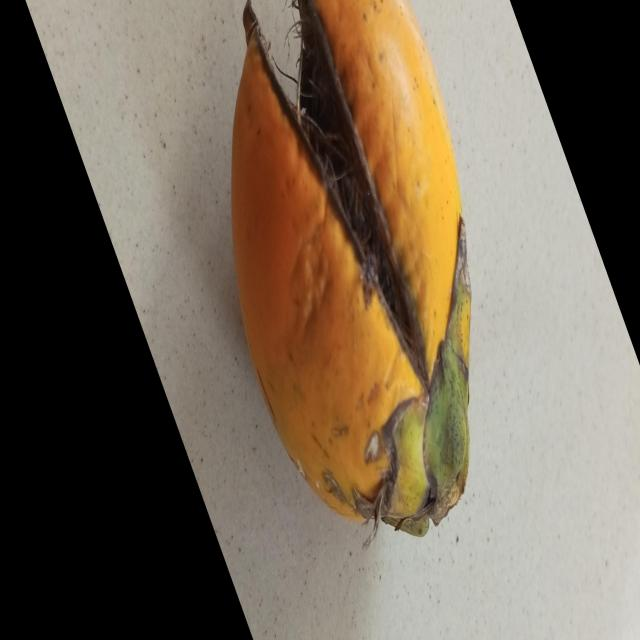damaged: (232, 0, 471, 538)
